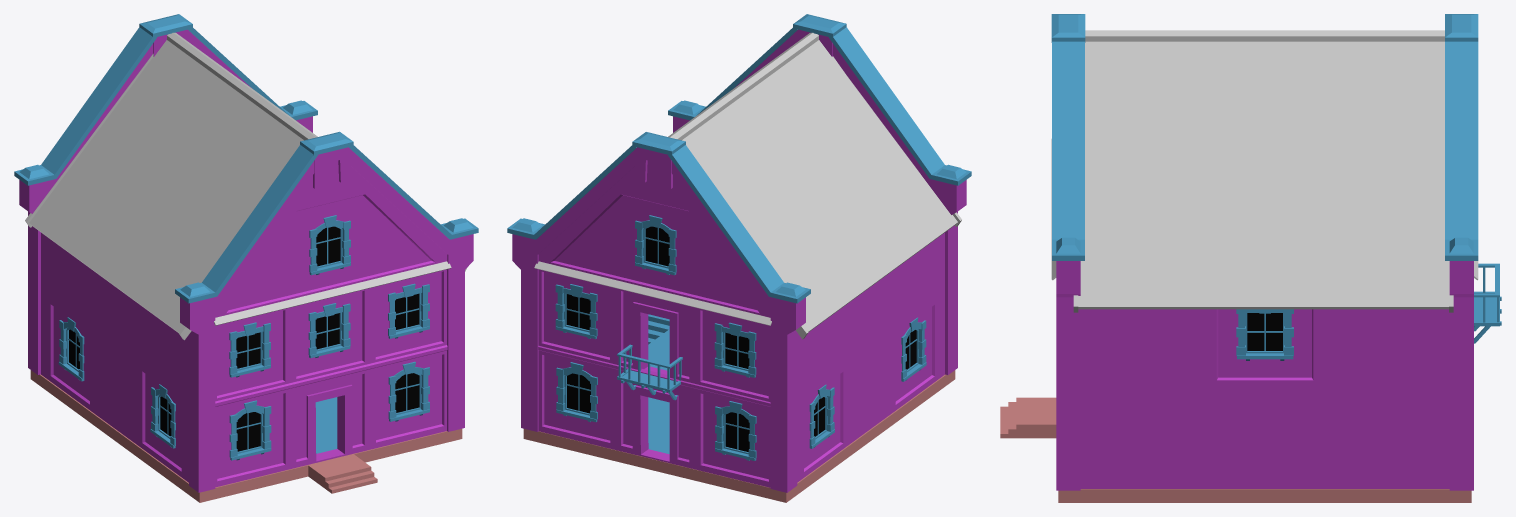
File: SM_office_building.fbx
3 views of the same model, side by side, from view 1: azimuth 30°, elevation 25°; view 2: azimuth 150°, elevation 25°; view 3: azimuth 270°, elevation 25° (orthographic). The views are drawn at different scales.
Visible parts, largest first — view 1: Cube_10, Cube_13; view 2: Cube_10, Cube_13; view 3: Cube_10, Cube_13.
Part boxes in pixels (x1,y1,x2,y2): Cube_10: (14, 14, 478, 502); Cube_13: (25, 32, 467, 340); Cube_10: (507, 14, 971, 502); Cube_13: (668, 32, 961, 339); Cube_10: (1000, 14, 1501, 502); Cube_13: (1073, 30, 1453, 312).
Size of the model in its own units: 1096 by 1185 by 1342.
